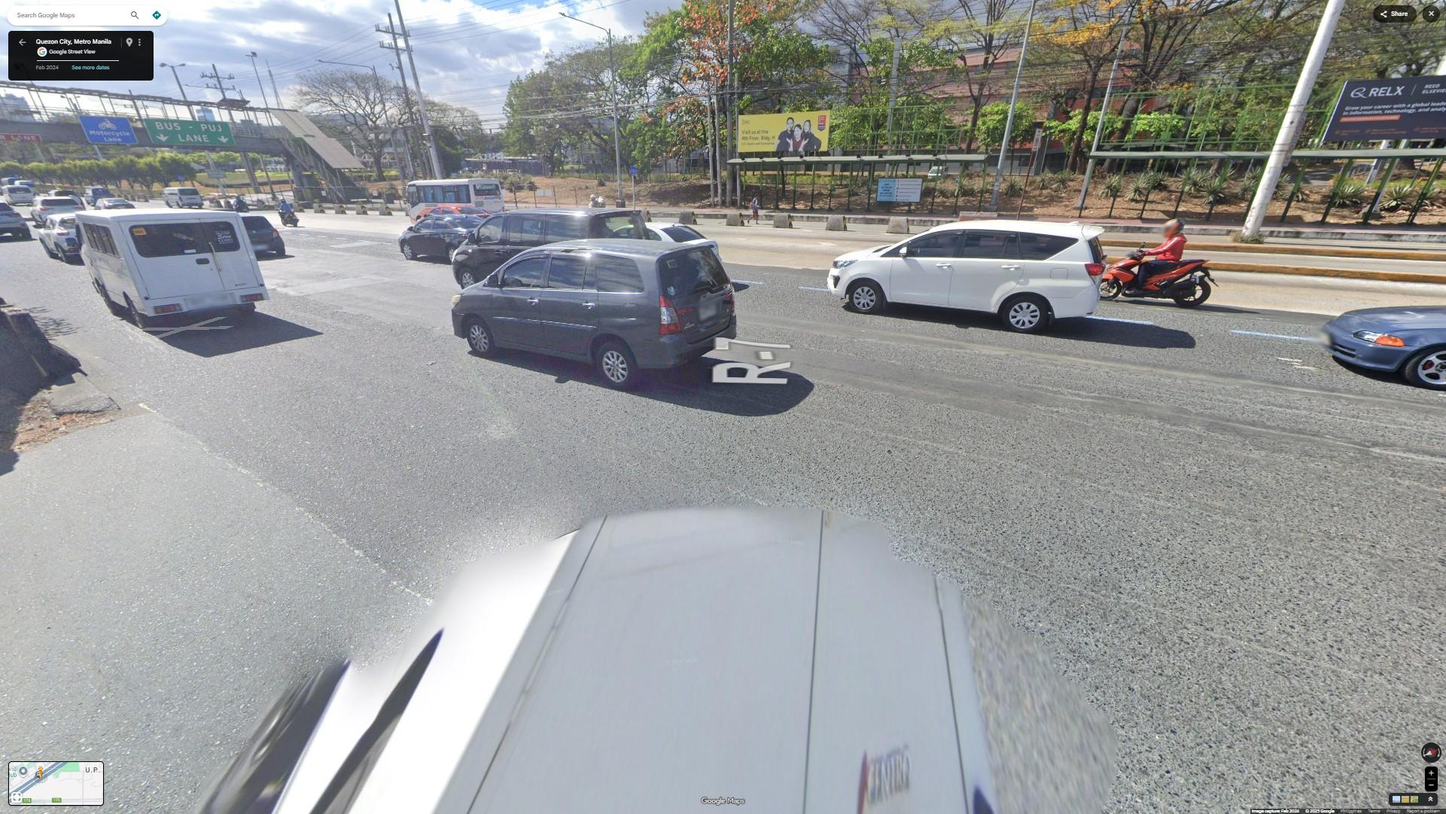pedestrian: (746, 193, 761, 225)
